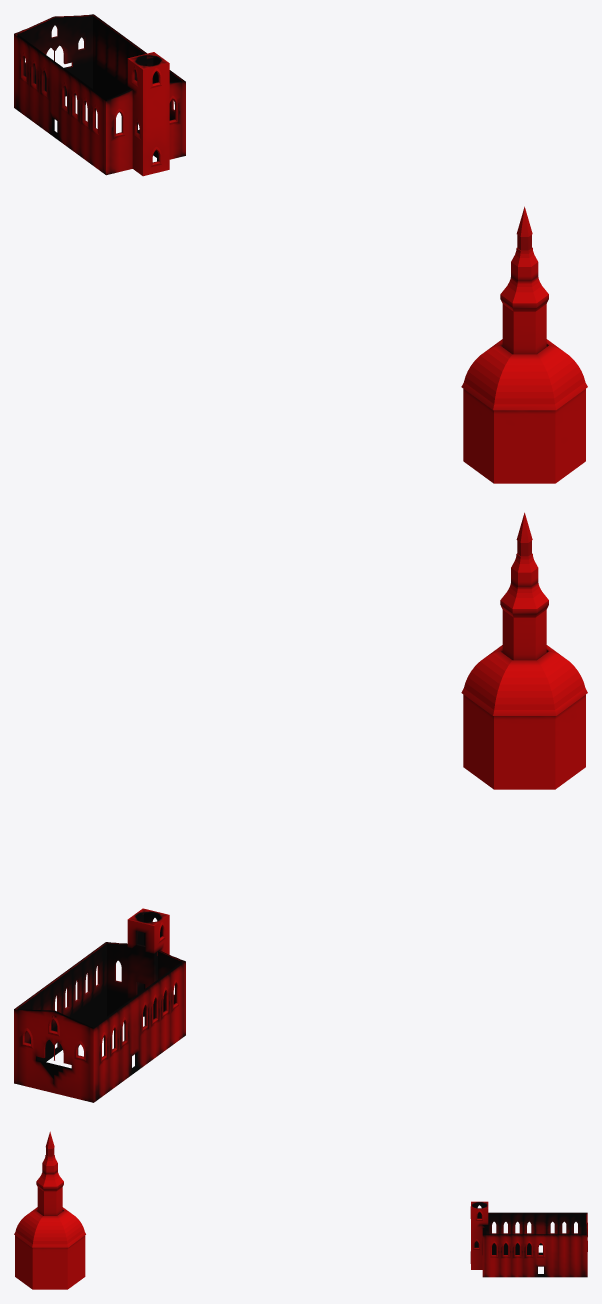
File: MainBuilding_export.obj
3 renders of one model, top to bottom at view 1: azimuth 30°, elevation 25°; view 2: azimuth 150°, elevation 25°; view 3: azimuth 270°, elevation 25°, orthographic. The views are drawn at different scales.
Parts seen in each view (by area): view 1: MainBuilding, MainBuildingBase, MainBuildingBigRoof, MainBuildingUpperRoof, MainBuildingLowerTower; view 2: MainBuilding, MainBuildingBase, MainBuildingBigRoof, MainBuildingUpperRoof, MainBuildingLowerTower; view 3: MainBuilding, MainBuildingBase, MainBuildingBigRoof, MainBuildingUpperRoof, MainBuildingLowerTower.
Boxes of the visible parts, box(x1,y1,x2,y2) form: MainBuilding: box(14, 14, 185, 176); MainBuildingBase: box(463, 389, 585, 483); MainBuildingBigRoof: box(461, 339, 587, 410); MainBuildingUpperRoof: box(500, 206, 548, 311); MainBuildingLowerTower: box(502, 304, 547, 354); MainBuilding: box(14, 908, 185, 1102); MainBuildingBase: box(463, 694, 585, 789); MainBuildingBigRoof: box(461, 645, 587, 715); MainBuildingUpperRoof: box(500, 512, 548, 617); MainBuildingLowerTower: box(502, 610, 547, 660); MainBuilding: box(470, 1201, 587, 1277); MainBuildingBase: box(15, 1235, 85, 1289); MainBuildingBigRoof: box(14, 1207, 85, 1247); MainBuildingUpperRoof: box(36, 1131, 63, 1191); MainBuildingLowerTower: box(37, 1187, 62, 1215).
Bounding box in the file's own units: 21.43 × 55 × 196.
